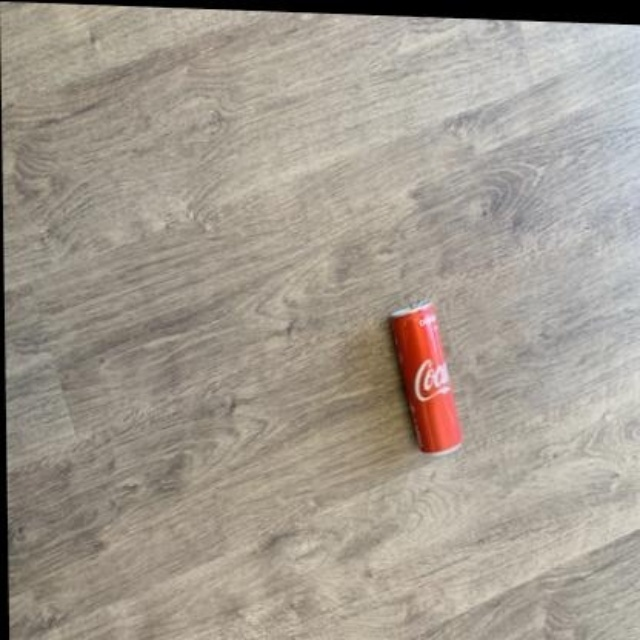trash: (392, 302, 462, 452)
